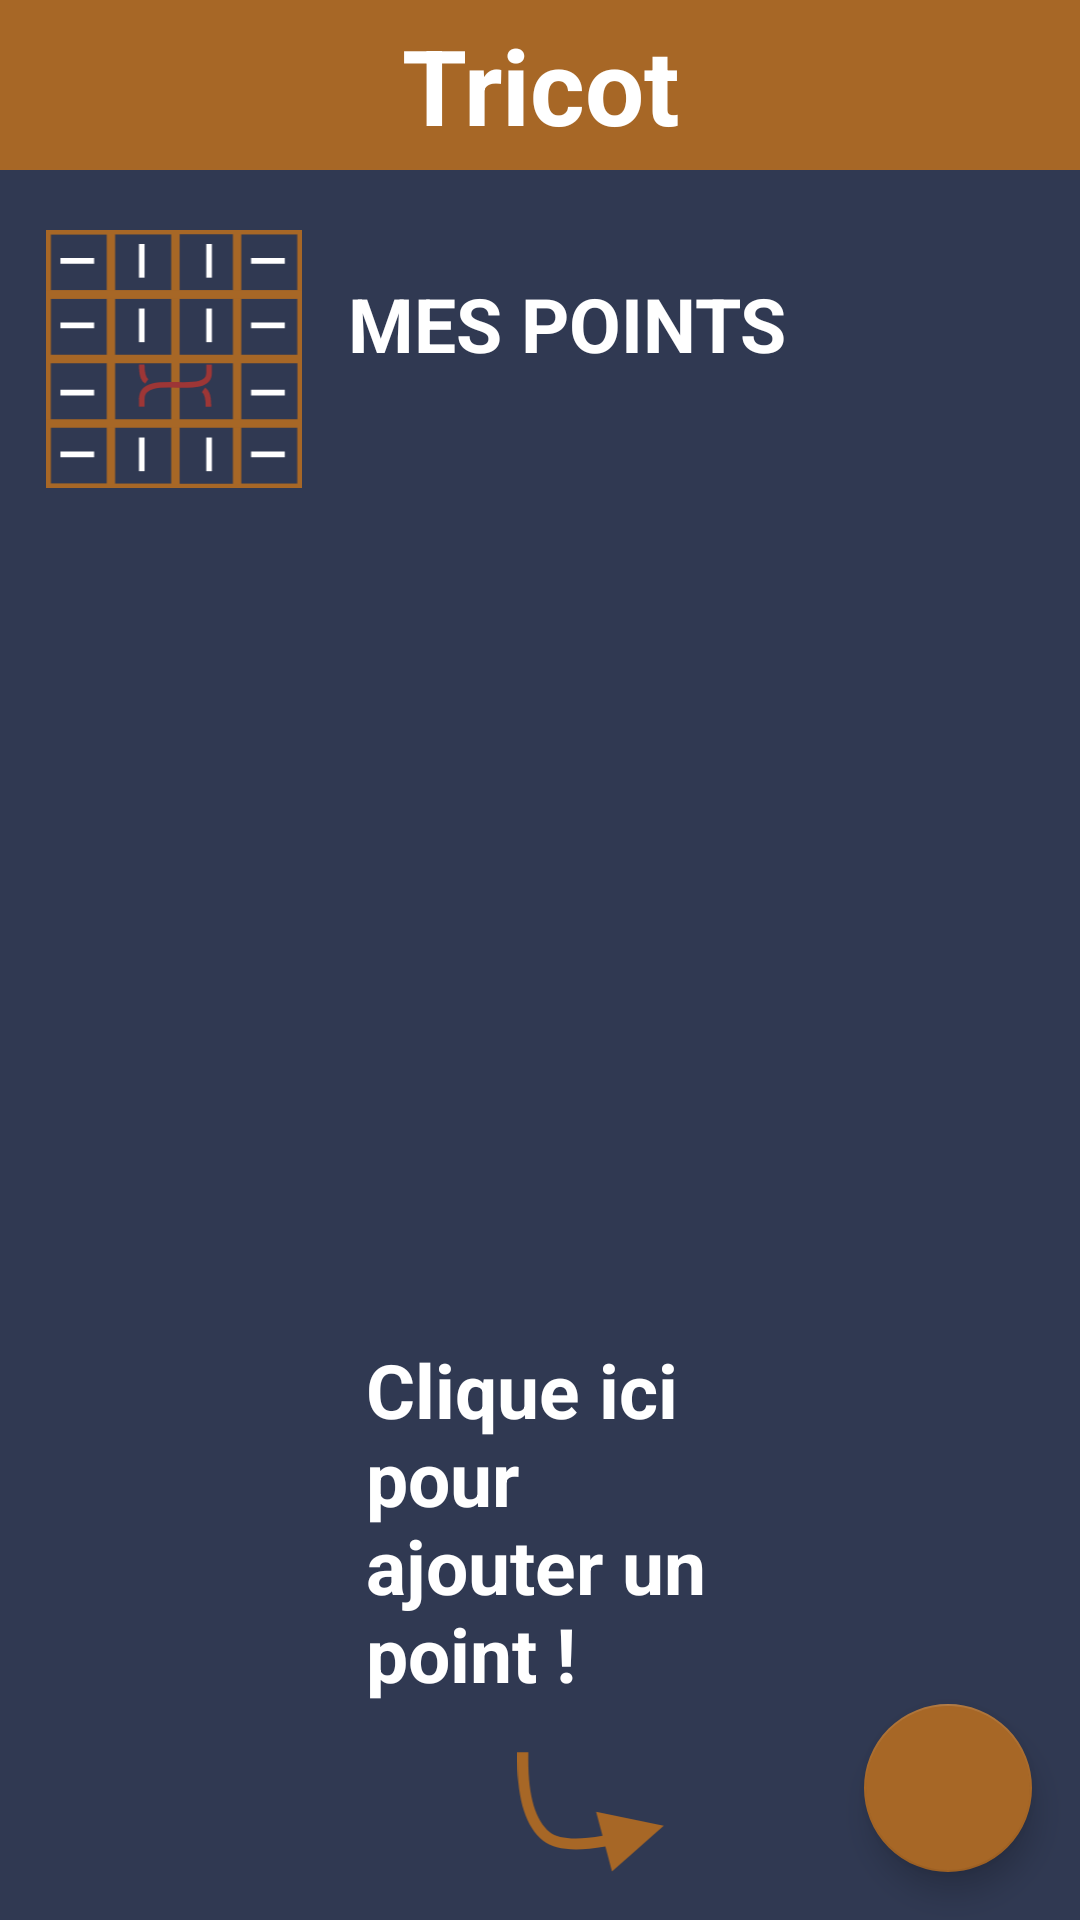

Icon bounding boxes for this 1080×1920 phone screenshot, format [x1=x1, y1=y1, x2=x2, y2=y2]:
arrow: [x1=517, y1=1752, x2=664, y2=1871]
stitches brown: [x1=46, y1=230, x2=302, y2=488]
